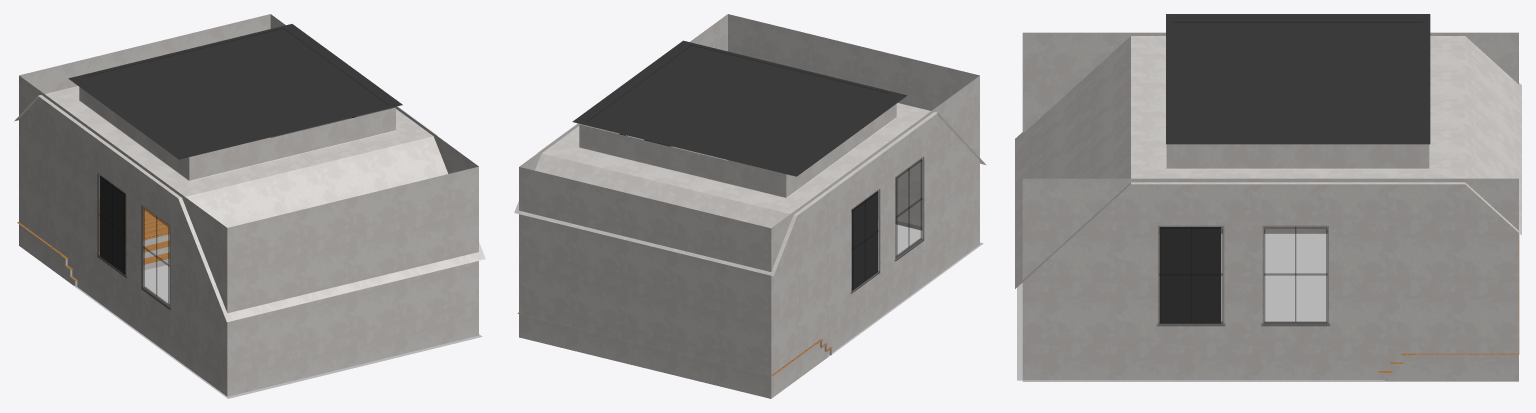
The model's file is tutorial start to finish.fbx.
3 renders of one model, left to right at view 1: azimuth 30°, elevation 25°; view 2: azimuth 150°, elevation 25°; view 3: azimuth 270°, elevation 25°, orthographic. The views are drawn at different scales.
Parts seen in each view (by area): view 1: Plane.002, Plane.004, Plane, Plane.006; view 2: Plane.002, Plane.004, Plane.006, Plane; view 3: Plane.002, Plane.004, Plane, Plane.006.
Part boxes in pixels (x1,y1,x2,y2): Plane.002: (14,14,485,396); Plane.004: (68,24,402,274); Plane: (17,196,482,398); Plane.006: (97,117,354,310); Plane.002: (514,14,986,398); Plane.004: (572,40,907,290); Plane.006: (620,134,923,293); Plane: (517,214,983,375); Plane.002: (1015,22,1521,381); Plane.004: (1159,14,1430,323); Plane: (1017,233,1519,380); Plane.006: (1157,226,1329,325).
Size of the model in its own units: 725 by 556 by 1032.
